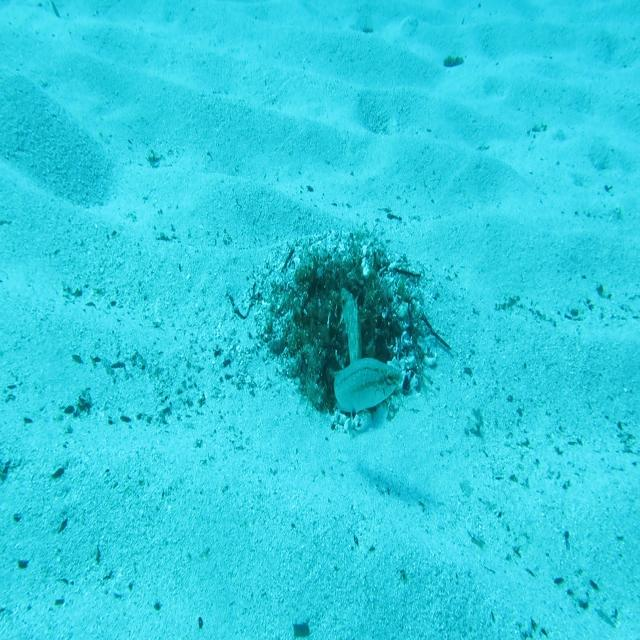FAN: (338, 286, 364, 442)
core_nest: (317, 275, 358, 307)
female: (332, 354, 405, 421)
nest: (245, 218, 443, 449)
vegetation: (442, 49, 465, 68)
